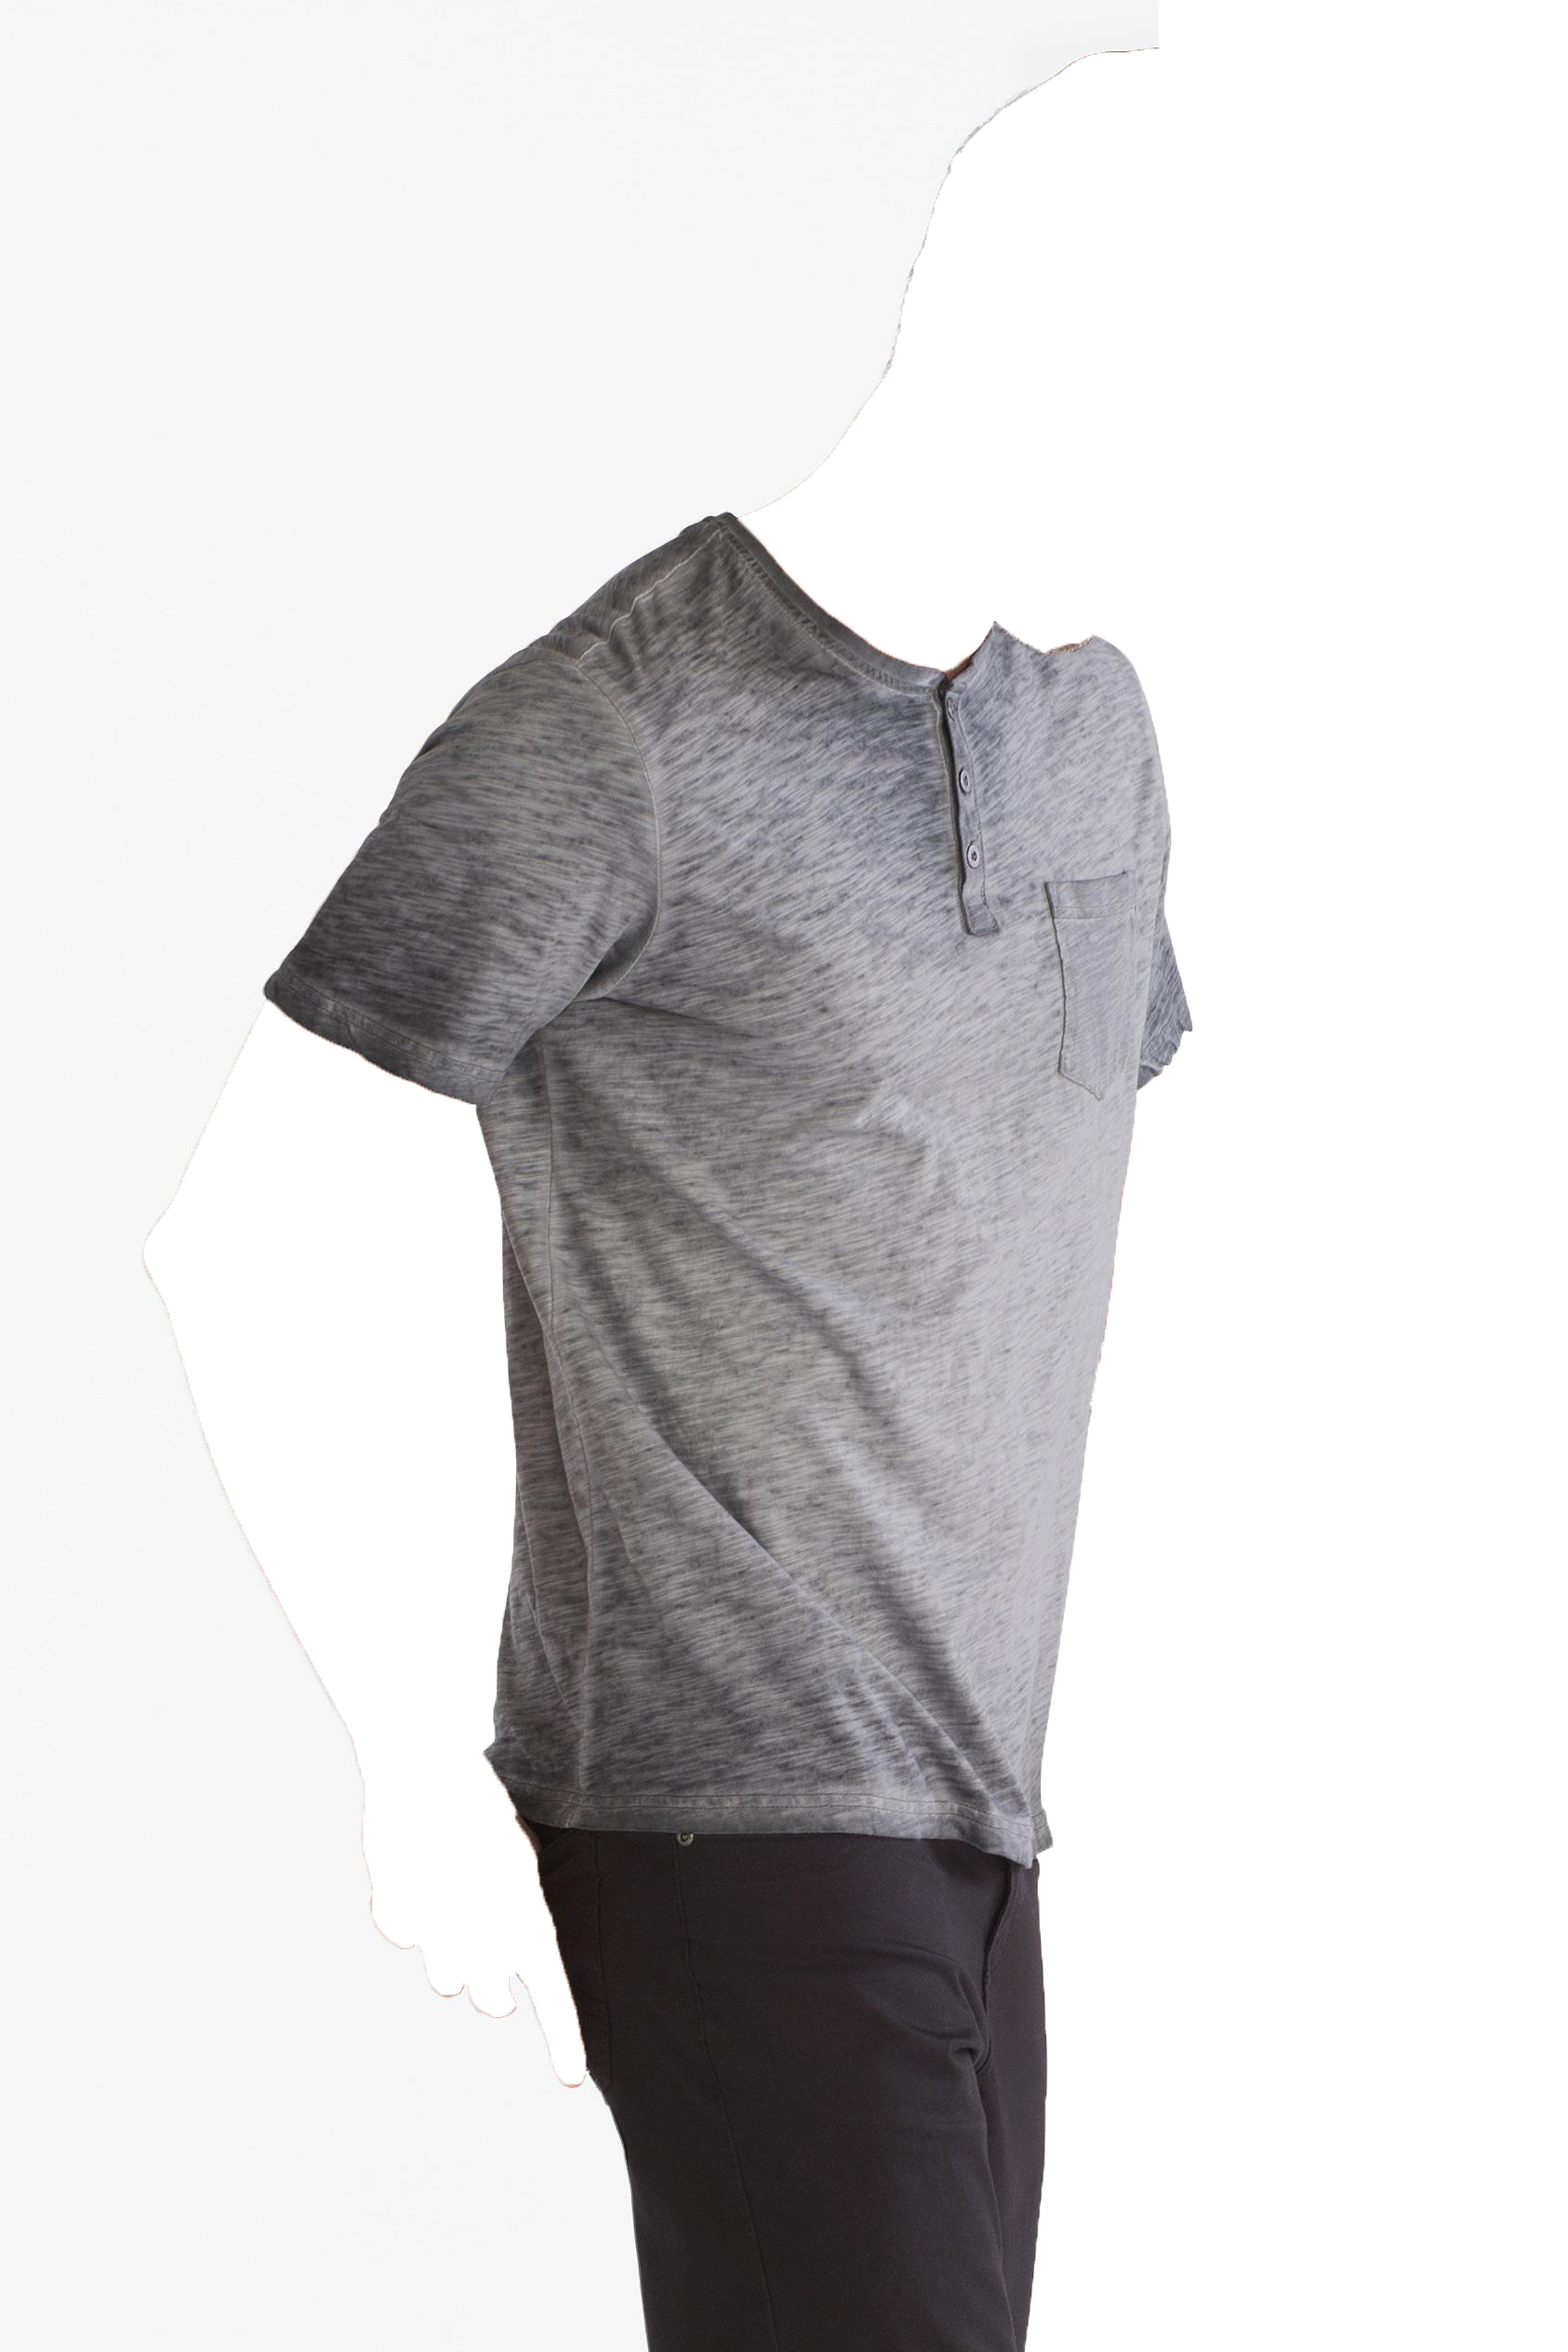teeshirt: (252, 499, 1265, 1885)
